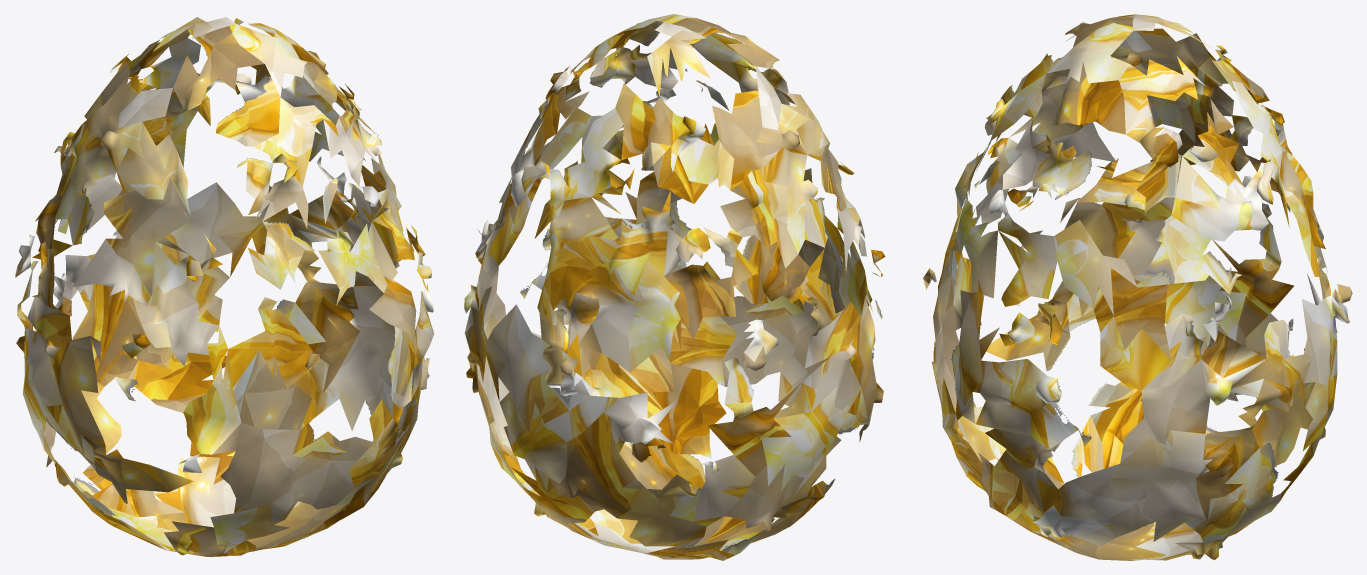
File: bloom_egg_5k.fbx
The picture shows the model from 3 angles, left to right: view 1: azimuth 30°, elevation 25°; view 2: azimuth 150°, elevation 25°; view 3: azimuth 270°, elevation 25°; orthographic projection.
Parts seen in each view (by area): view 1: bloom_egg_decimated; view 2: bloom_egg_decimated; view 3: bloom_egg_decimated.
Part boxes in pixels (<box>): bloom_egg_decimated: <box>15,17,434,556</box>; bloom_egg_decimated: <box>464,14,885,560</box>; bloom_egg_decimated: <box>923,14,1352,560</box>.
Size of the model in its own units: 1.38 by 1.91 by 1.44.
